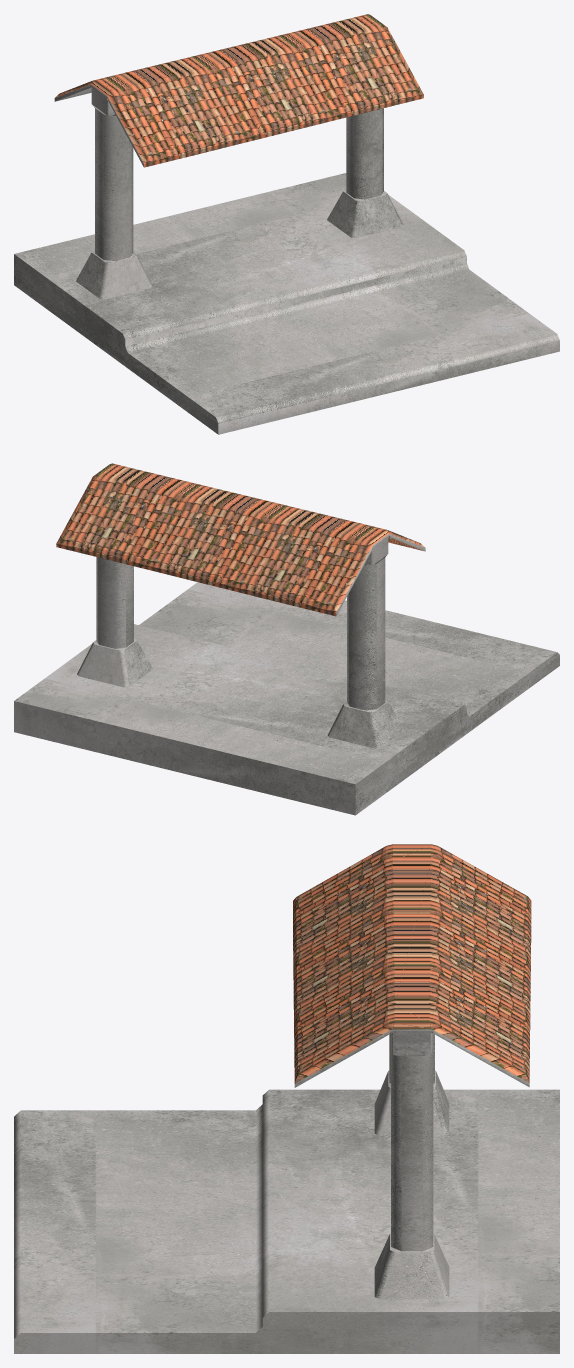
The model's file is Station huisie.FBX.
3 views of the same model, one above another, from view 1: azimuth 30°, elevation 25°; view 2: azimuth 150°, elevation 25°; view 3: azimuth 270°, elevation 25° (orthographic). The views are drawn at different scales.
Parts seen in each view (by area): view 1: Station, Object001; view 2: Station, Object001; view 3: Station, Object001.
Boxes of the visible parts, x1,y1,x2,y2 form: Station: (14,84,559,434); Object001: (55,14,423,167); Station: (14,534,559,815); Object001: (56,463,424,616); Station: (14,1029,559,1353); Object001: (293,844,531,1083).
Bounding box in the file's own units: 22.9 × 14.81 × 23.74.
2 materials, 2 textured.
